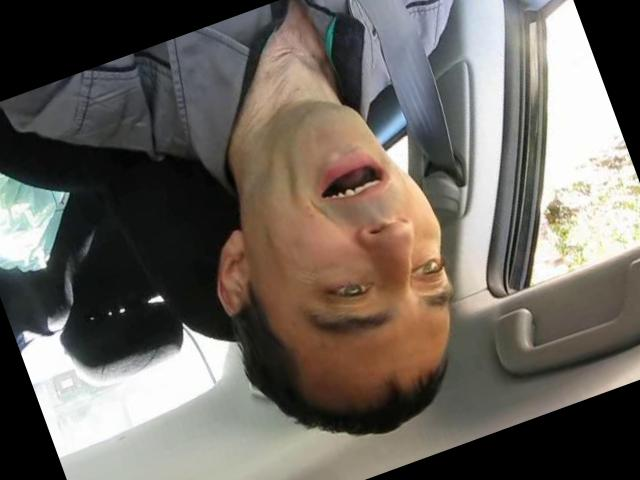eye_open: (320, 267, 380, 313), (411, 252, 447, 286)
face: (217, 72, 478, 376)
mouth_open: (303, 140, 403, 220)
